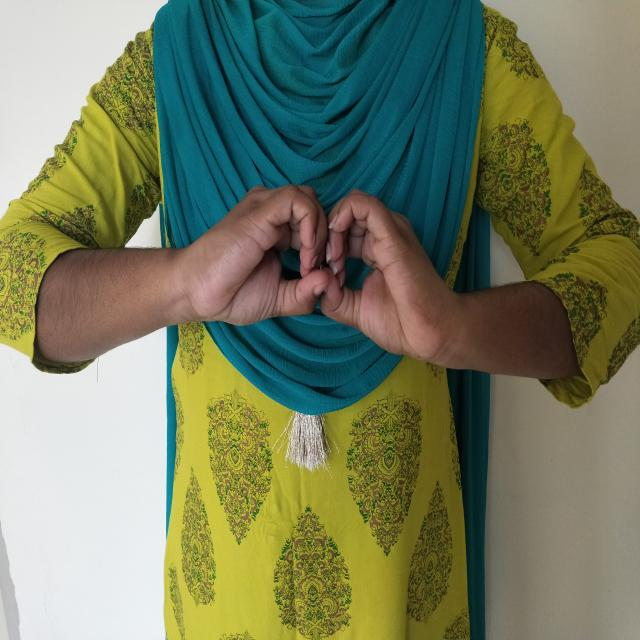B: (177, 168, 467, 378)
